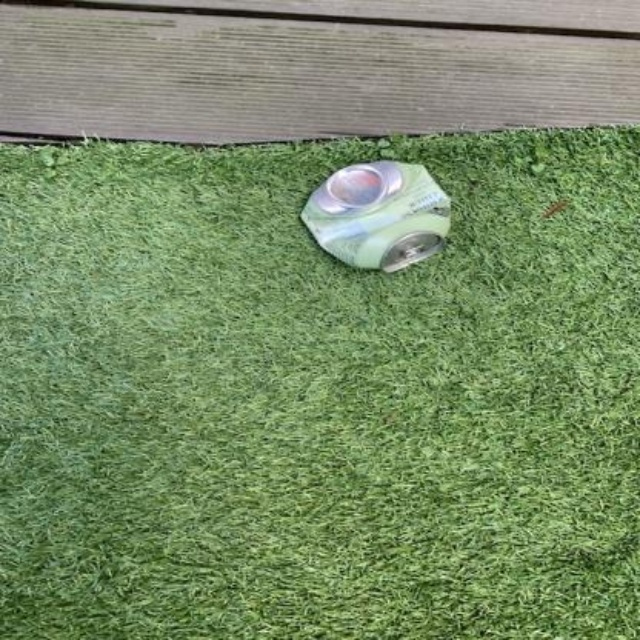trash: (302, 162, 449, 271)
